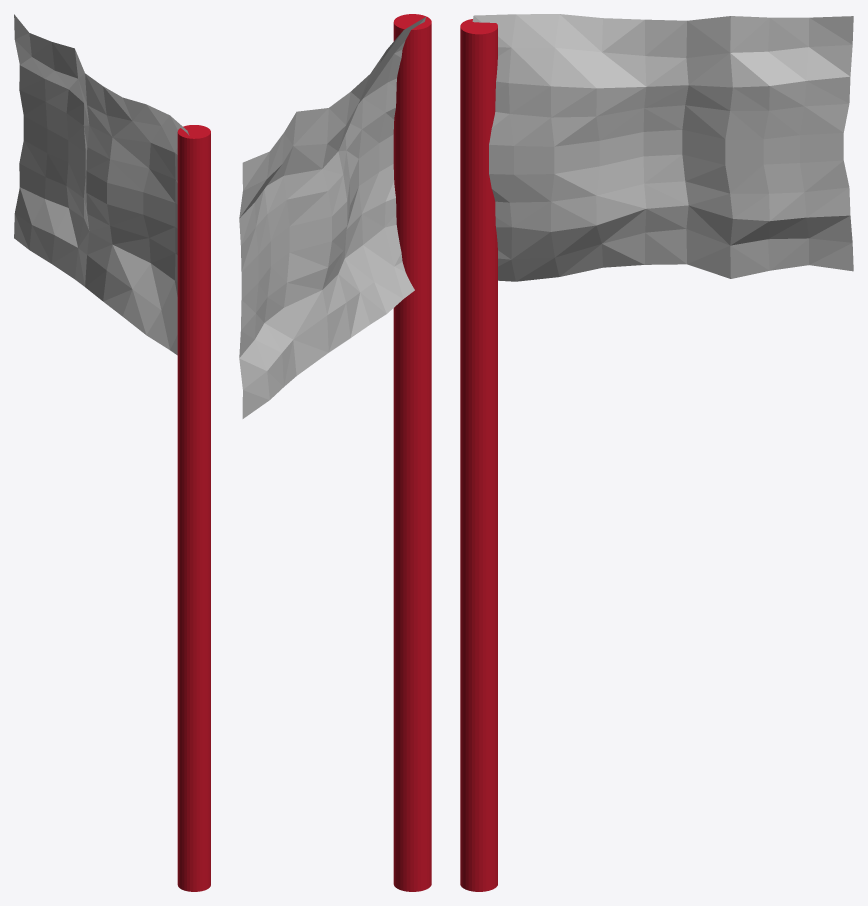
The model's file is Flag.obj.
3 renders of one model, left to right at view 1: azimuth 30°, elevation 25°; view 2: azimuth 150°, elevation 25°; view 3: azimuth 270°, elevation 25°, orthographic. The views are drawn at different scales.
Visible parts, largest first — view 1: Grid, Cylinder; view 2: Grid, Cylinder; view 3: Grid, Cylinder.
Part boxes in pixels (box(x1,y1,x2,y2)): Grid: box(14, 14, 189, 355); Cylinder: box(177, 125, 210, 891); Grid: box(239, 17, 425, 418); Cylinder: box(393, 14, 431, 891); Grid: box(472, 14, 853, 281); Cylinder: box(460, 19, 497, 891).
Bounding box in the file's own units: 0.4789 × 10.09 × 4.16.
